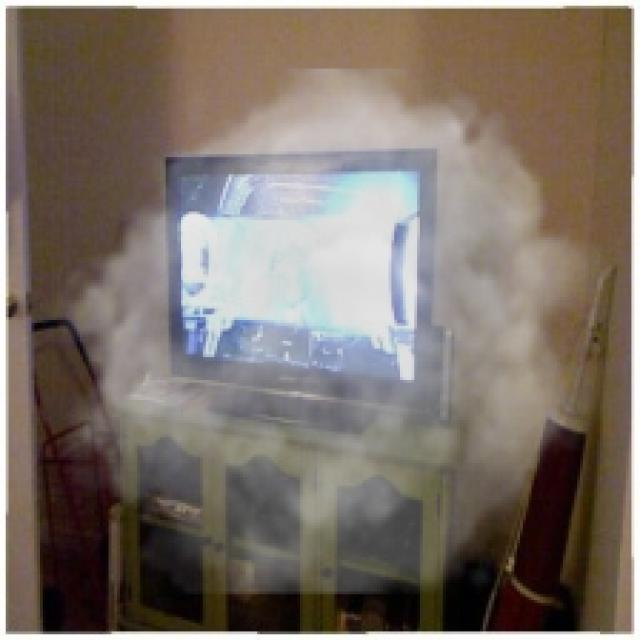smoke: (46, 69, 608, 594)
